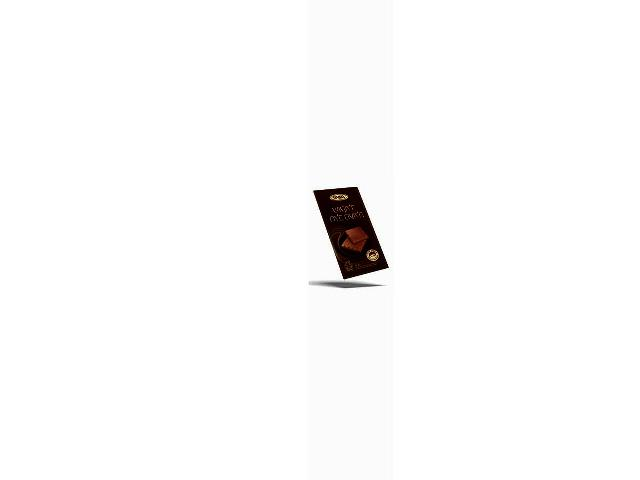chocolate: (312, 185, 391, 283)
